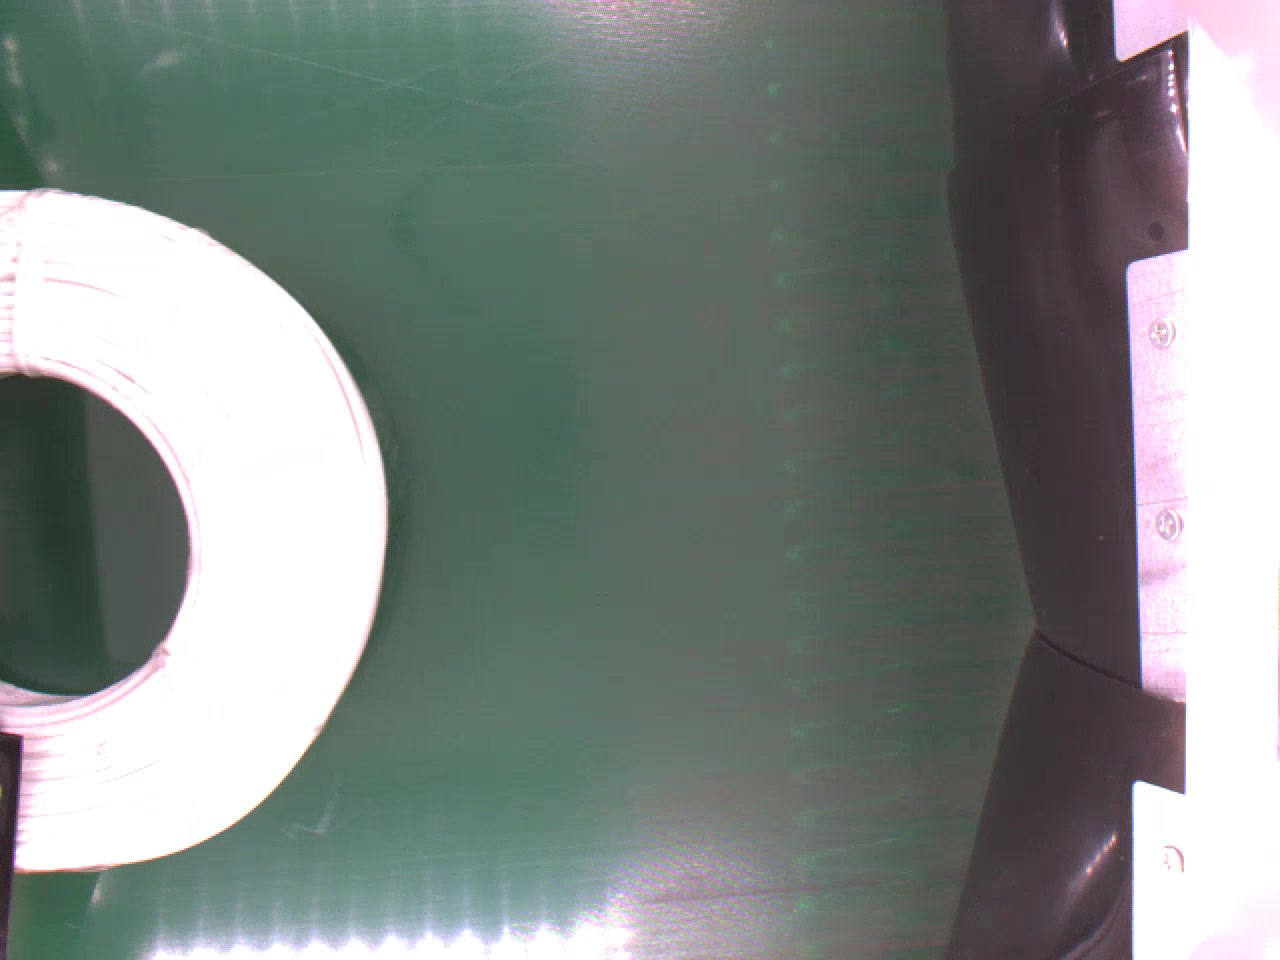white: (0, 192, 396, 882)
